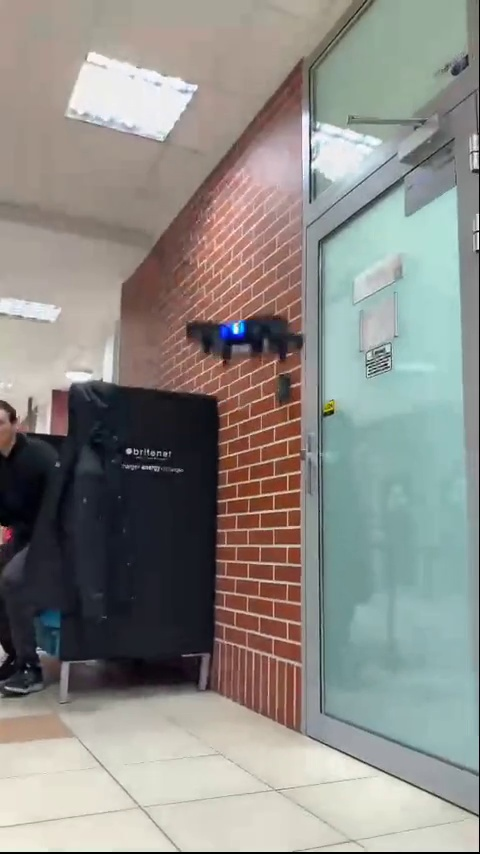drone: (192, 303, 304, 361)
no vest: (0, 397, 72, 698)
